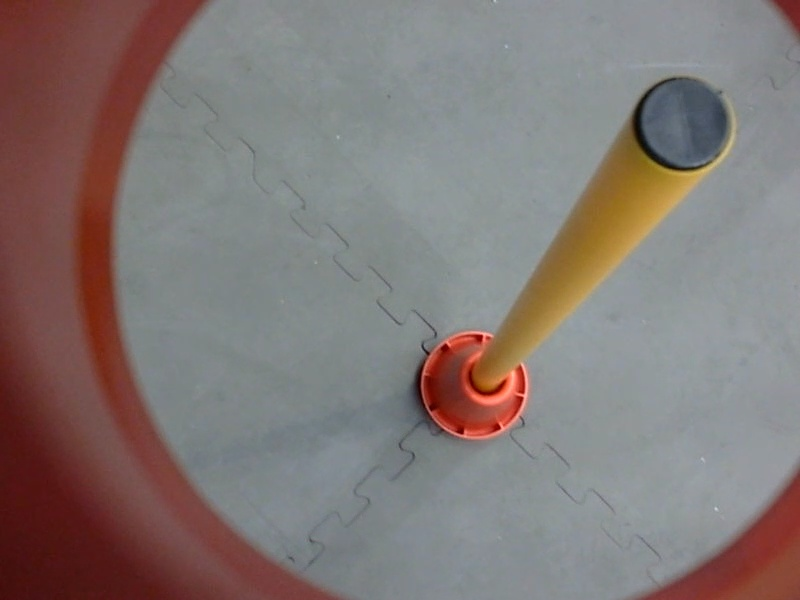tip: (624, 65, 746, 183)
